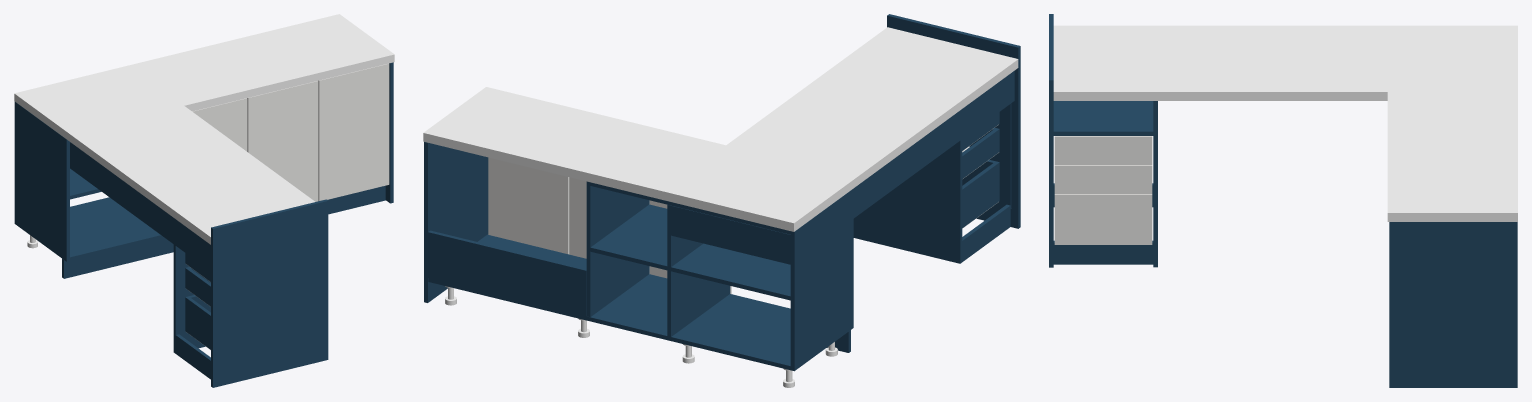
The picture shows the model from 3 angles, left to right: view 1: azimuth 30°, elevation 25°; view 2: azimuth 150°, elevation 25°; view 3: azimuth 270°, elevation 25°; orthographic projection. The views are drawn at different scales.
Parts seen in each view (by area): view 1: Стіл; view 2: Стіл; view 3: Стіл.
Part boxes in pixels (x1,y1,x2,y2): Стіл: [14, 14, 394, 387]; Стіл: [423, 14, 1020, 387]; Стіл: [1049, 14, 1517, 387].
Bounding box in the file's own units: 17 × 8 × 18.
5 materials, 4 textured.
